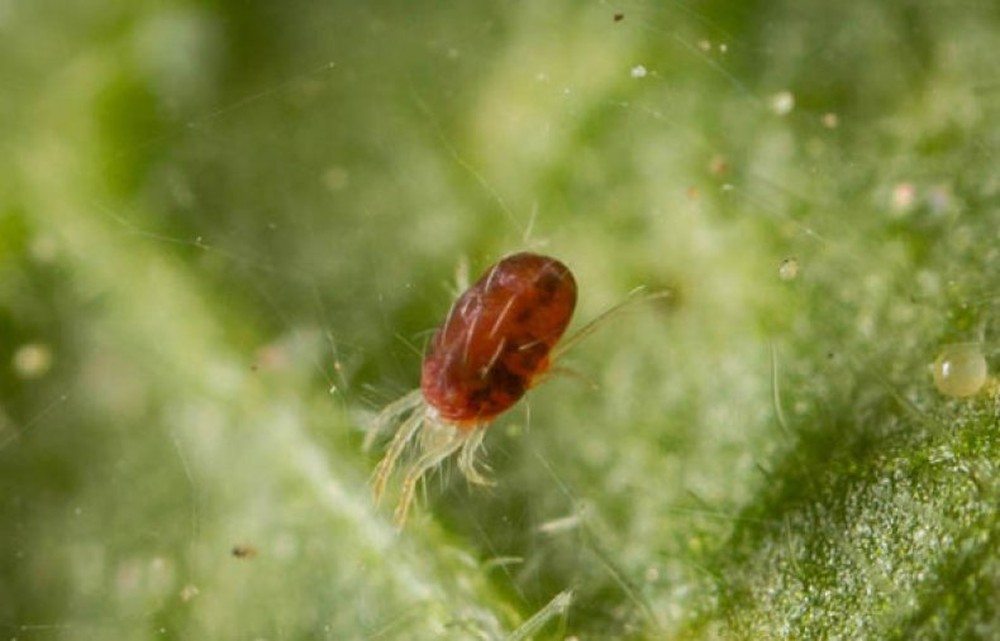Aracnido Rojo: (323, 212, 640, 505)
